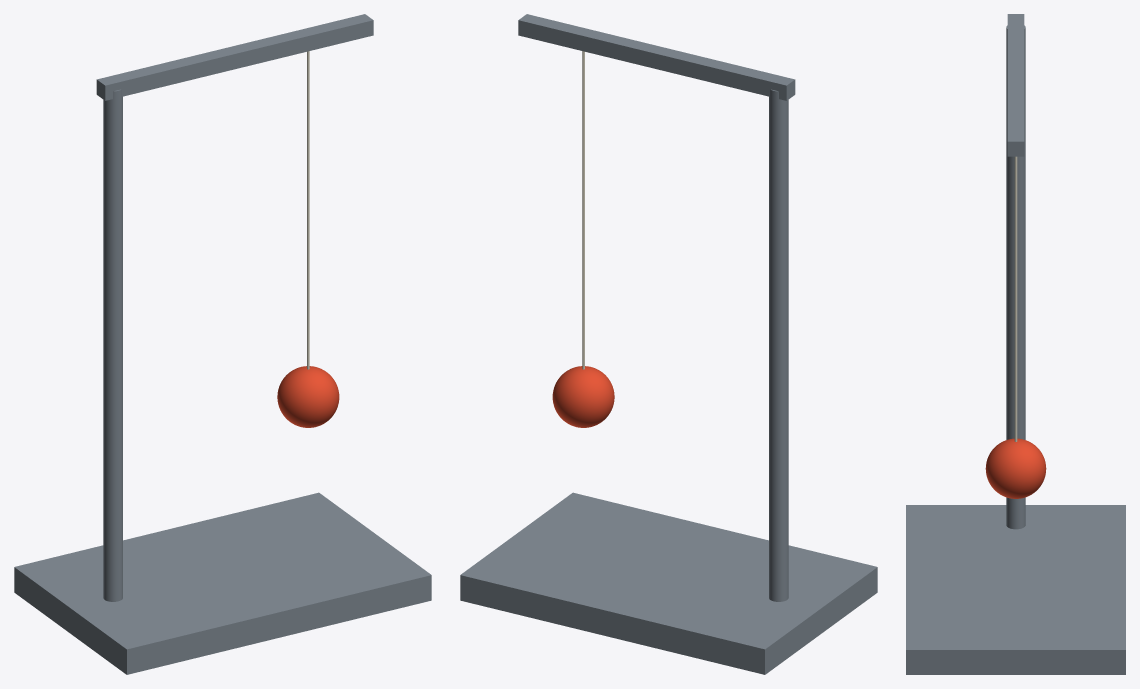
File: phy-pendulum__model3d__simple-pendulum.glb
The picture shows the model from 3 angles, left to right: view 1: azimuth 30°, elevation 25°; view 2: azimuth 150°, elevation 25°; view 3: azimuth 270°, elevation 25°; orthographic projection. The views are drawn at different scales.
Visible parts, largest first — view 1: Base, Support rod, Crossbar, Pendulum bob, String; view 2: Base, Support rod, Crossbar, Pendulum bob, String; view 3: Base, Support rod, Pendulum bob, Crossbar, String.
Boxes of the visible parts, x1,y1,x2,y2 form: Base: (14, 492, 431, 674); Support rod: (103, 89, 122, 601); Crossbar: (96, 14, 373, 100); Pendulum bob: (277, 366, 339, 427); String: (307, 51, 309, 369); Base: (460, 492, 877, 674); Support rod: (769, 89, 788, 601); Crossbar: (518, 14, 795, 100); Pendulum bob: (552, 366, 614, 427); String: (582, 51, 584, 369); Base: (906, 505, 1125, 674); Support rod: (1006, 25, 1025, 529); Pendulum bob: (985, 438, 1046, 498); Crossbar: (1007, 14, 1024, 156); String: (1014, 156, 1017, 441).
Bounding box in the file's own units: 0.25 × 0.426 × 0.16.
